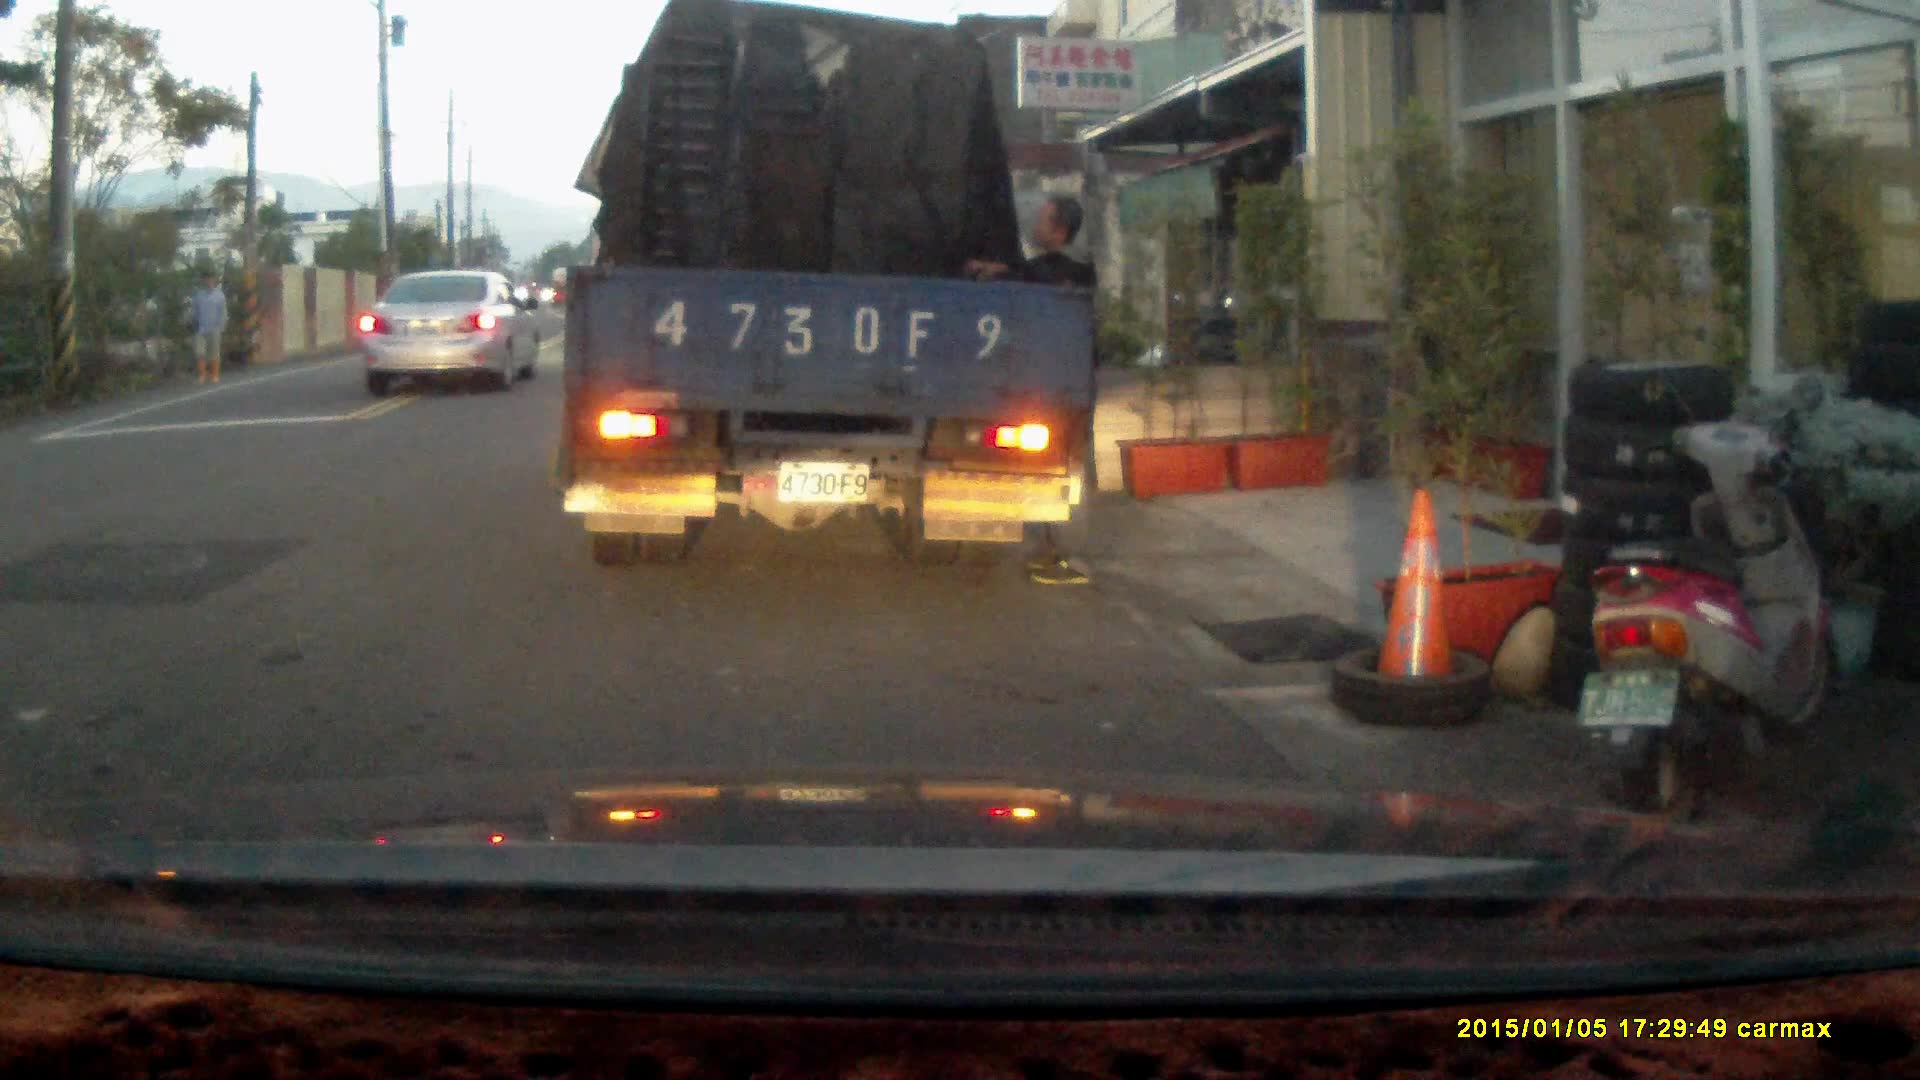pedestrian: (955, 194, 1099, 587), (183, 271, 228, 387)
vehicle: (565, 23, 1097, 572), (359, 268, 549, 396)
